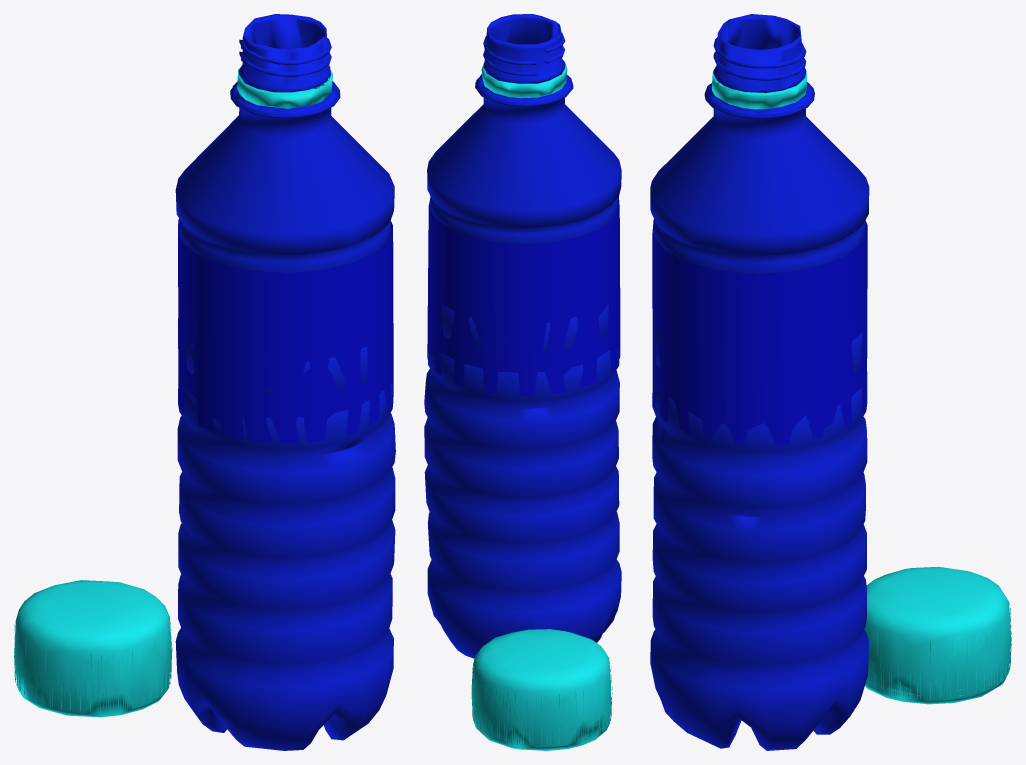
The model's file is Desertt.glb.
The picture shows the model from 3 angles, left to right: view 1: azimuth 30°, elevation 25°; view 2: azimuth 150°, elevation 25°; view 3: azimuth 270°, elevation 25°; orthographic projection. The views are drawn at different scales.
Parts seen in each view (by area): view 1: Bottle_Circle.lid, lid; view 2: Bottle_Circle.lid, lid; view 3: Bottle_Circle.lid, lid.
Part boxes in pixels (x1=…): Bottle_Circle.lid: x1=175, y1=14, x2=395, y2=750; lid: x1=14, y1=580, x2=172, y2=717; Bottle_Circle.lid: x1=424, y1=14, x2=621, y2=658; lid: x1=471, y1=629, x2=612, y2=750; Bottle_Circle.lid: x1=650, y1=14, x2=869, y2=750; lid: x1=864, y1=566, x2=1011, y2=704.
Size of what is drawn, in the model's own units: 1.24 by 3.01 by 1.42.
